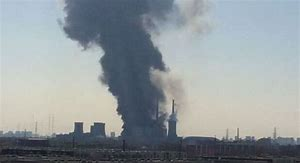smoke: (61, 1, 170, 125)
